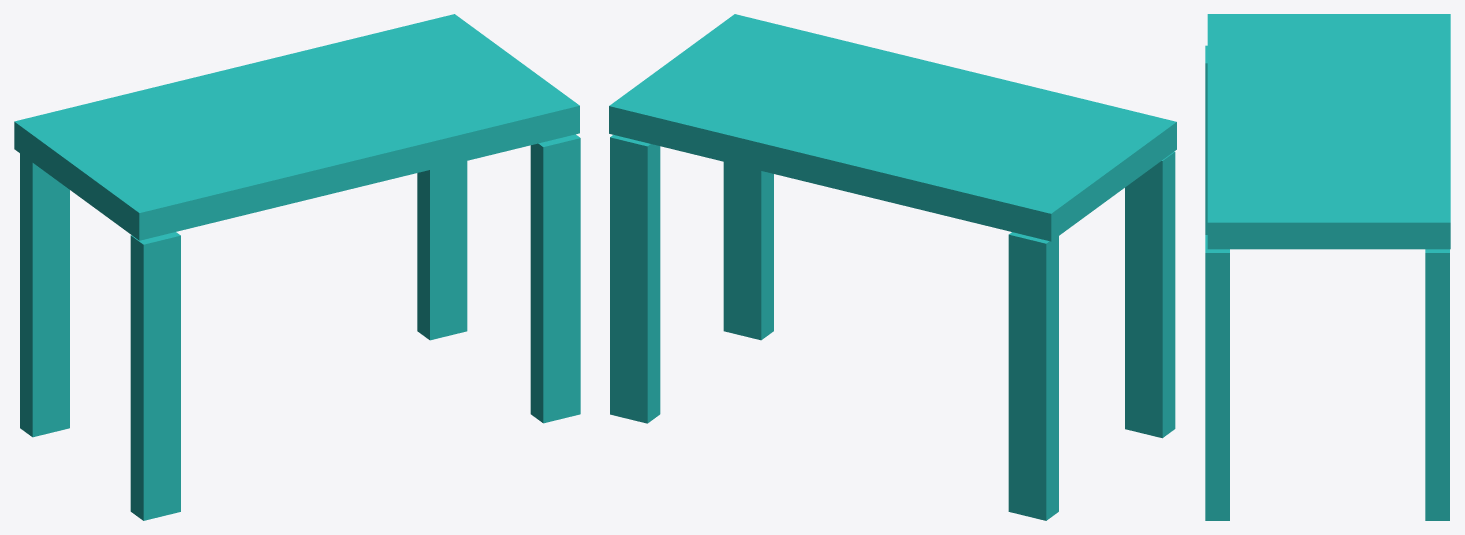
Rendered from basic-table-6x12x8(light-green).glb.
3 renders of one model, left to right at view 1: azimuth 30°, elevation 25°; view 2: azimuth 150°, elevation 25°; view 3: azimuth 270°, elevation 25°, orthographic. The views are drawn at different scales.
Visible parts, largest first — view 1: Cube; view 2: Cube; view 3: Cube.
Boxes of the visible parts, box(x1,y1,x2,y2) form: Cube: box(14, 14, 580, 520); Cube: box(609, 14, 1176, 520); Cube: box(1205, 14, 1450, 520).
Bounding box in the file's own units: 12.06 × 8.04 × 6.
Materials: 1 (1 with a texture image).
